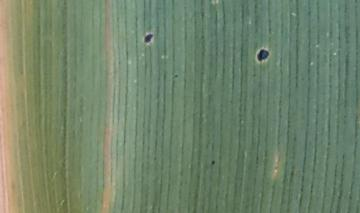tarspot: (255, 47, 270, 62), (142, 32, 154, 45), (209, 159, 217, 166), (173, 72, 179, 79)
